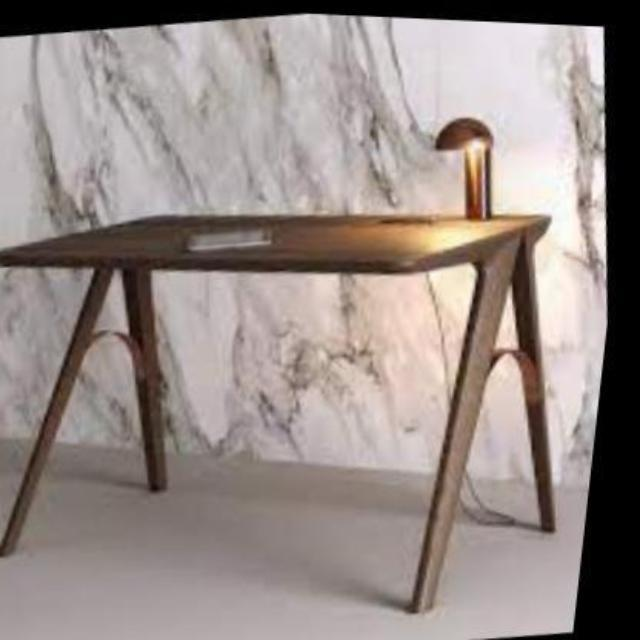table: (3, 215, 555, 600)
